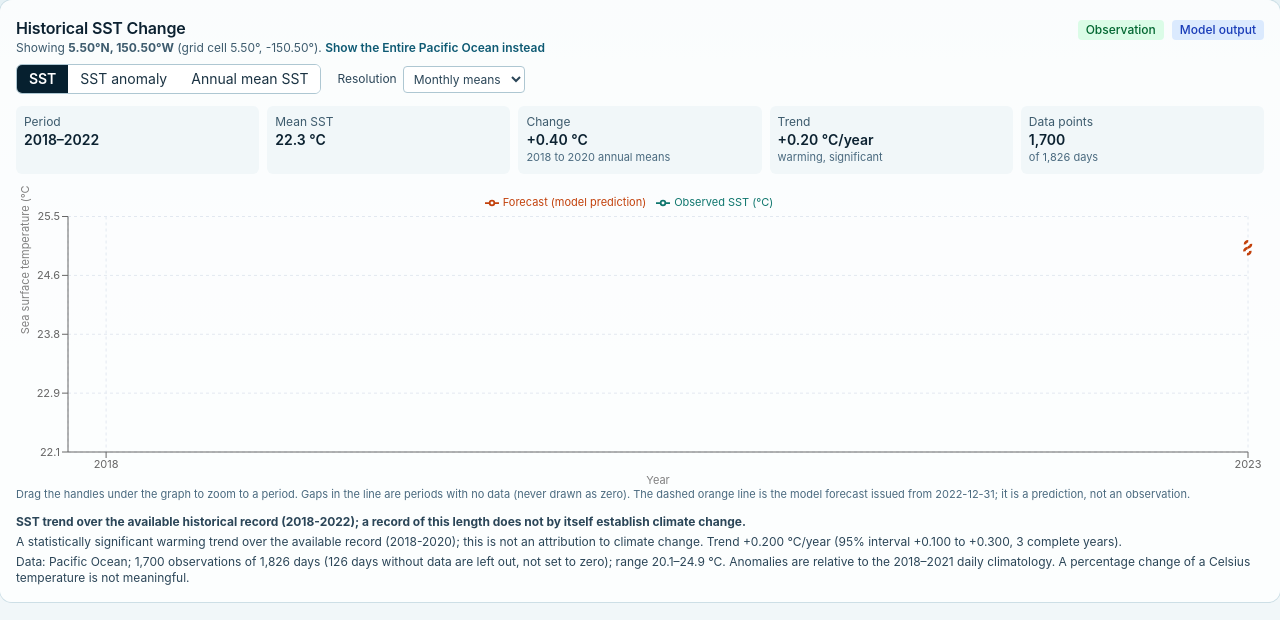
Historical SST section › uses the place picked on the map and returns to the region when it is cleared
The width and height of the screenshot is (1280, 620).
Expected: the text "5.50°N, 150.50°W" is shown, [68, 40, 174, 55]
Click the button "Show the Entire Pacific Ocean instead".
click(435, 48)  # box [325, 40, 545, 56]
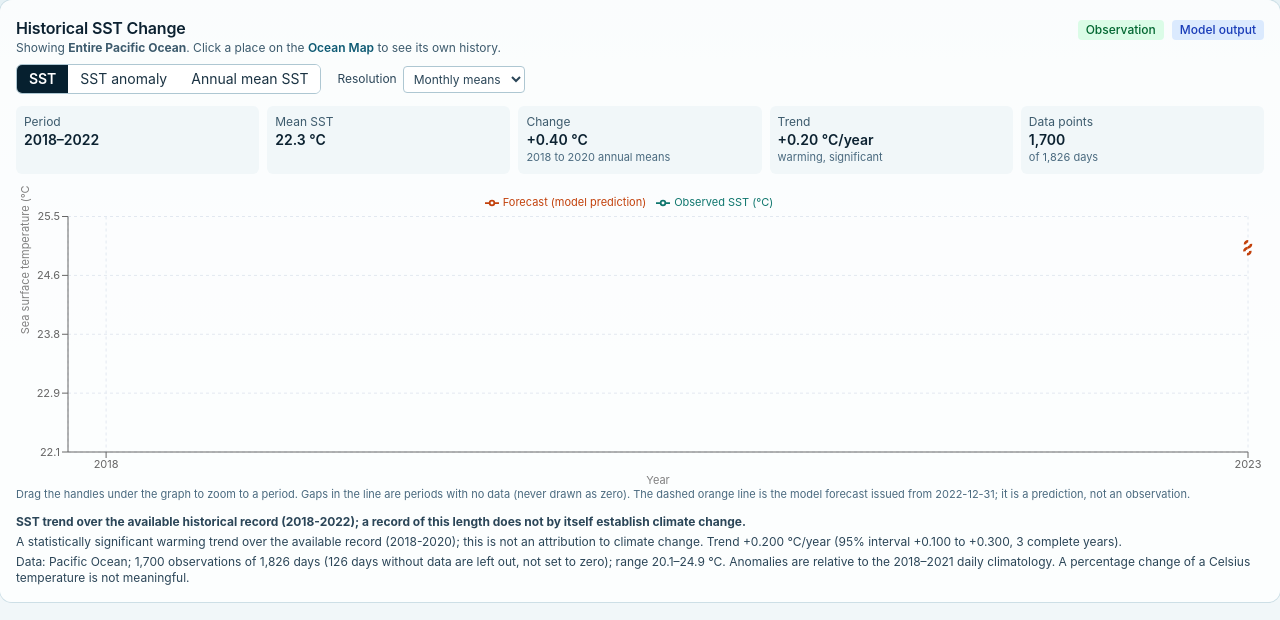
Expected: the text "Entire Pacific Ocean" is shown, [68, 40, 186, 55]
